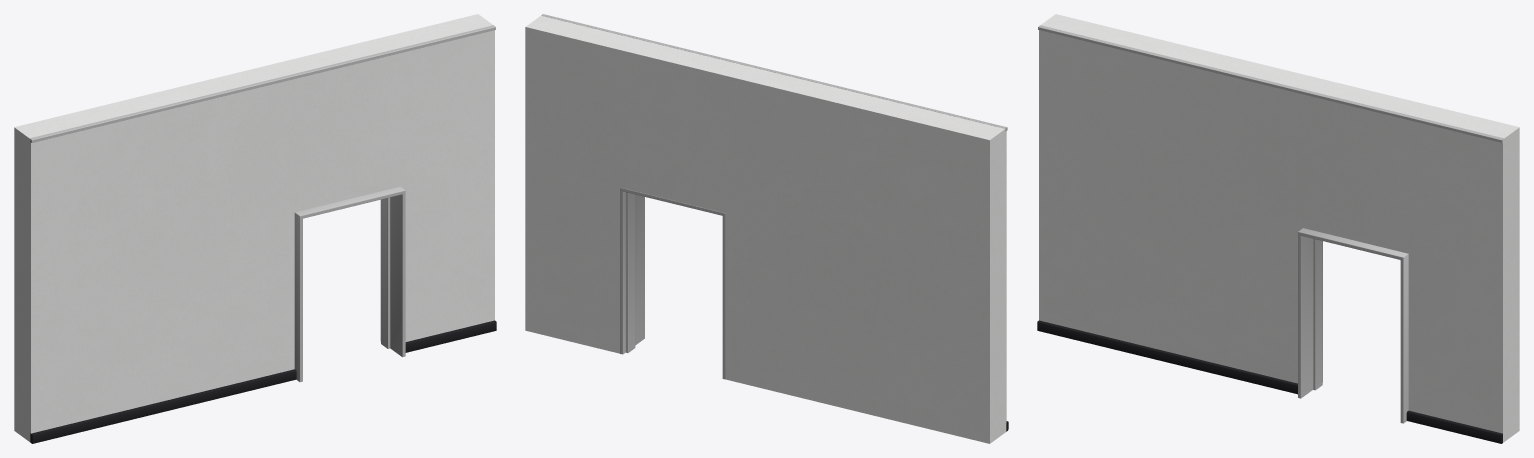
The model's file is Wall_F.fbx.
3 views of the same model, side by side, from view 1: azimuth 30°, elevation 25°; view 2: azimuth 150°, elevation 25°; view 3: azimuth 330°, elevation 25° (orthographic).
Parts seen in each view (by area): view 1: Wall_F; view 2: Wall_F; view 3: Wall_F.
Boxes of the visible parts, <box> form: Wall_F: <box>14,14,496,443</box>; Wall_F: <box>525,14,1008,443</box>; Wall_F: <box>1037,14,1519,443</box>.
Size of the model in its own units: 8 by 5 by 0.6567.
